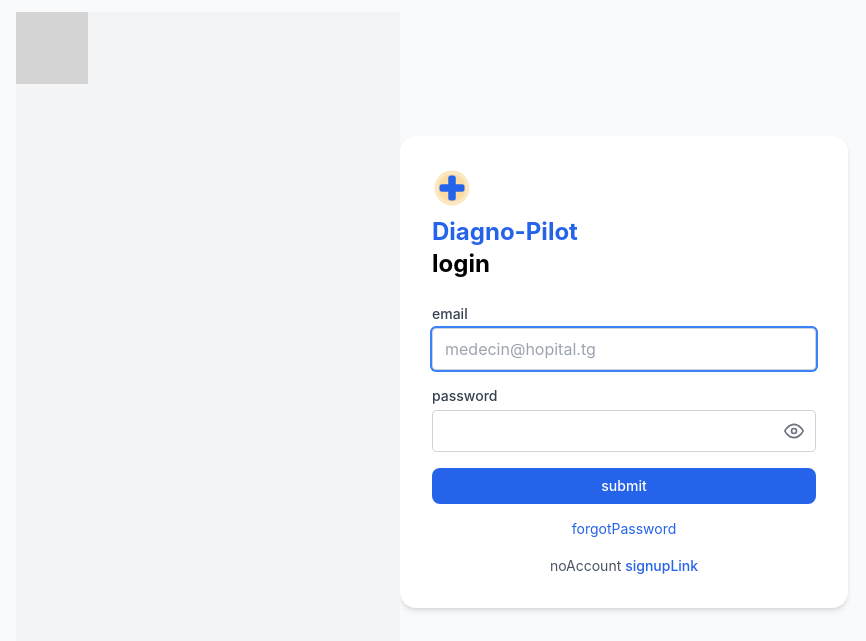
Test: LoginPage — inline validation (Req 1.6, 1.7, 1.8) › shows password required error when submitting with empty password
The width and height of the screenshot is (866, 641).
Type "doc@test.com" into the field with id "email" at (624, 349), box [432,328,816,370]
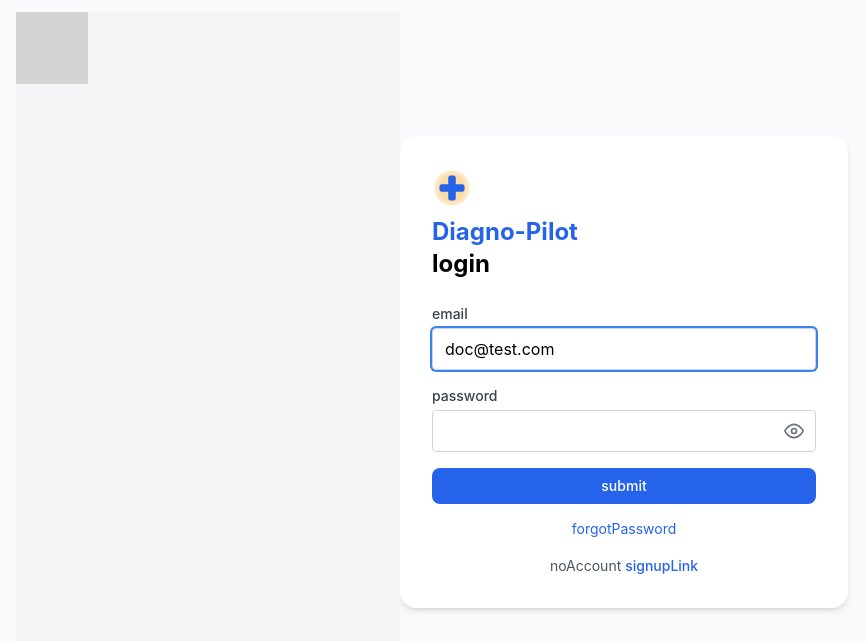
Submit the form "email password submit", box [432,304,816,504]
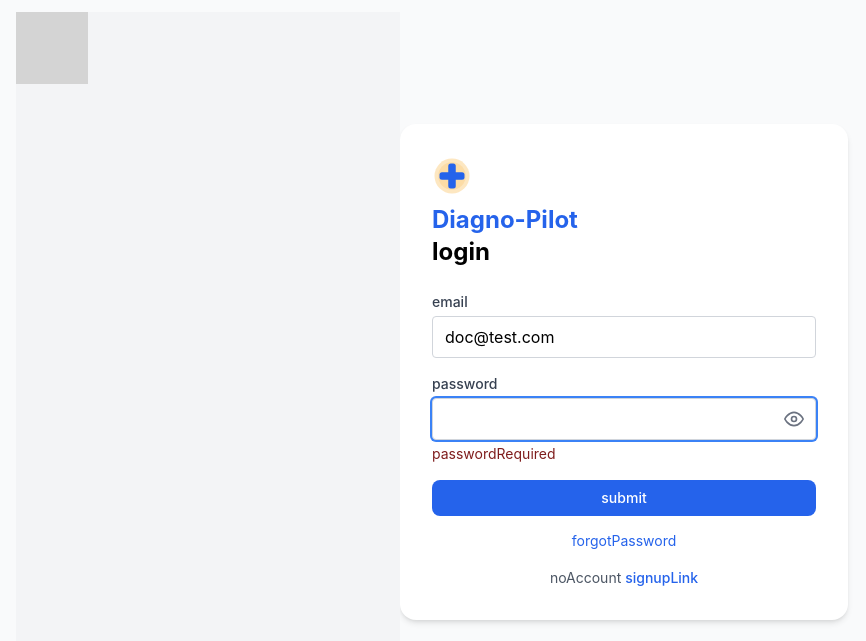
Expected: the text "passwordRequired" is shown, [432,445,556,462]
